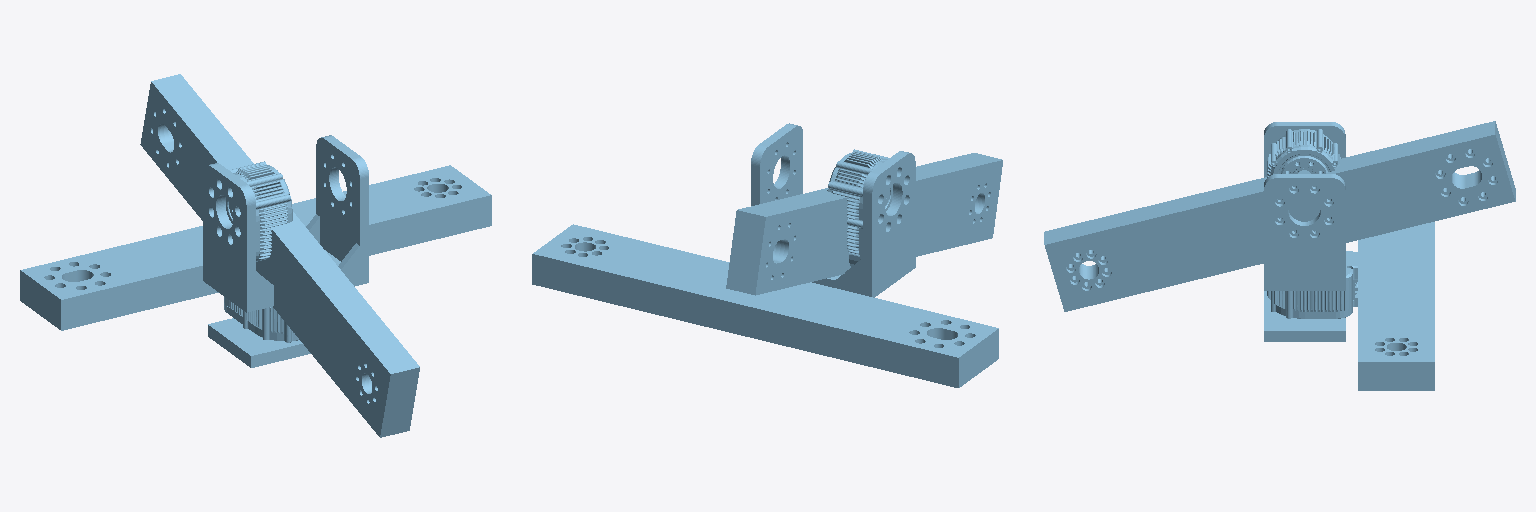
The robot description file, URDF, robot "134":
<?xml version="1.0" ?>
<!-- Generated using onshape-to-robot -->
<!-- Onshape https://cad.onshape.com/documents/b24f31efa04a014ae2302e9e/w/00cd8abebdb06481d40693f6/e/4cf0829e59723755e3bfcfee -->
<robot name="134">
  <!-- Link base_plate -->
  <link name="base_plate">
    <inertial>
      <origin xyz="0 0 0" rpy="0 0 0"/>
      <mass value="1e-09"/>
      <inertia ixx="1e-09" ixy="0" ixz="0" iyy="1e-09" iyz="0" izz="1e-09"/>
    </inertial>
    <!-- Part base_plate -->
    <visual>
      <origin xyz="-0 -0 0" rpy="0 -0 0"/>
      <geometry>
        <mesh filename="package://chad/meshes/base_plate.stl"/>
      </geometry>
      <material name="base_plate_material">
        <color rgba="0.615686 0.811765 0.929412 1"/>
      </material>
    </visual>
    <collision>
      <origin xyz="-0 -0 0" rpy="0 -0 0"/>
      <geometry>
        <mesh filename="package://chad/meshes/base_plate.stl"/>
      </geometry>
    </collision>
    <!-- Part x8 -->
    <visual>
      <origin xyz="0 0 0.0353" rpy="-1.5708 -0 1.5708"/>
      <geometry>
        <mesh filename="package://chad/meshes/x8.stl"/>
      </geometry>
      <material name="x8_material">
        <color rgba="0.615686 0.811765 0.929412 1"/>
      </material>
    </visual>
    <collision>
      <origin xyz="0 0 0.0353" rpy="-1.5708 -0 1.5708"/>
      <geometry>
        <mesh filename="package://chad/meshes/x8.stl"/>
      </geometry>
    </collision>
  </link>
  <!-- Link part_1 -->
  <link name="part_1">
    <inertial>
      <origin xyz="0 0 0" rpy="0 0 0"/>
      <mass value="1e-09"/>
      <inertia ixx="1e-09" ixy="0" ixz="0" iyy="1e-09" iyz="0" izz="1e-09"/>
    </inertial>
    <!-- Part part_1 -->
    <visual>
      <origin xyz="0 -0 -0.01" rpy="0 -0 0"/>
      <geometry>
        <mesh filename="package://chad/meshes/part_1.stl"/>
      </geometry>
      <material name="part_1_material">
        <color rgba="0.615686 0.811765 0.929412 1"/>
      </material>
    </visual>
    <collision>
      <origin xyz="0 -0 -0.01" rpy="0 -0 0"/>
      <geometry>
        <mesh filename="package://chad/meshes/part_1.stl"/>
      </geometry>
    </collision>
    <!-- Part x8_2 -->
    <visual>
      <origin xyz="-0.032 0 -0.086" rpy="1.5708 -1.5708 0"/>
      <geometry>
        <mesh filename="package://chad/meshes/x8.stl"/>
      </geometry>
      <material name="x8_2_material">
        <color rgba="0.615686 0.811765 0.929412 1"/>
      </material>
    </visual>
    <collision>
      <origin xyz="-0.032 0 -0.086" rpy="1.5708 -1.5708 0"/>
      <geometry>
        <mesh filename="package://chad/meshes/x8.stl"/>
      </geometry>
    </collision>
  </link>
  <!-- Link part_1_2 -->
  <link name="part_1_2">
    <inertial>
      <origin xyz="0 0 0" rpy="0 0 0"/>
      <mass value="1e-09"/>
      <inertia ixx="1e-09" ixy="0" ixz="0" iyy="1e-09" iyz="0" izz="1e-09"/>
    </inertial>
    <!-- Part part_1_2 -->
    <visual>
      <origin xyz="0.0453486 0.0239741 -0.0057" rpy="-1.5708 -0 -1.83541"/>
      <geometry>
        <mesh filename="package://chad/meshes/part_1__2.stl"/>
      </geometry>
      <material name="part_1_2_material">
        <color rgba="0.615686 0.811765 0.929412 1"/>
      </material>
    </visual>
    <collision>
      <origin xyz="0.0453486 0.0239741 -0.0057" rpy="-1.5708 -0 -1.83541"/>
      <geometry>
        <mesh filename="package://chad/meshes/part_1__2.stl"/>
      </geometry>
    </collision>
  </link>
  <!-- Link part_1_2b -->
  <link name="part_1_2b">
    <inertial>
      <origin xyz="0 0 0" rpy="0 0 0"/>
      <mass value="1e-09"/>
      <inertia ixx="1e-09" ixy="0" ixz="0" iyy="1e-09" iyz="0" izz="1e-09"/>
    </inertial>
    <!-- Part part_1_2b -->
    <visual>
      <origin xyz="0.09 0.03 -0.009" rpy="-1.5708 -0 -1.5708"/>
      <geometry>
        <mesh filename="package://chad/meshes/part_1__2.stl"/>
      </geometry>
      <material name="part_1_2_material">
        <color rgba="0.615686 0.811765 0.929412 1"/>
      </material>
    </visual>
    <collision>
      <origin xyz="0.09 0.03 -0.009" rpy="-1.5708 -0 -1.5708"/>
      <geometry>
        <mesh filename="package://chad/meshes/part_1__2.stl"/>
      </geometry>
    </collision>
  </link>
  <!-- Joint from part_1 to part_1_2 -->
  <joint name="shoulder" type="revolute">
    <origin xyz="-0.00995 -0 -0.086" rpy="-0 -1.5708 0"/>
    <parent link="part_1"/>
    <child link="part_1_2"/>
    <axis xyz="0 0 1"/>
    <limit effort="10" velocity="10" lower="-3.141592653589793" upper="3.141592653589793"/>
  </joint>
    <!-- Joint from part_1 to part_1_2 -->
  <joint name="shoulder_2" type="revolute">
    <origin xyz="-0.00995 -0 0" rpy="-0 0 -1.5708"/>
    <parent link="part_1"/>
    <child link="part_1_2b"/>
    <axis xyz="0 0 1"/>
    <limit effort="10" velocity="10" lower="-3.141592653589793" upper="3.141592653589793"/>
  </joint>
  <!-- Joint from base_plate to part_1 -->
  <joint name="base" type="revolute">
    <origin xyz="-0 0 0.05735" rpy="3.14159 -0 0"/>
    <parent link="base_plate"/>
    <child link="part_1"/>
    <axis xyz="0 0 1"/>
    <limit effort="10" velocity="10" lower="-3.141592653589793" upper="3.141592653589793"/>
  </joint>
  
</robot>

--- What the picture shows (computed from the rendered views, not written in the file) ---
Views: 3 orthographic renders of the robot side by side, from view 1: azimuth 30°, elevation 25°; view 2: azimuth 150°, elevation 25°; view 3: azimuth 270°, elevation 25°.
Model 134 with 4 links and 3 joints (3 revolute), rooted at base_plate, posed all joints at 0.
Visible links, largest first — view 1: part_1_2, part_1_2b, part_1, base_plate; view 2: part_1_2b, part_1_2, part_1; view 3: part_1_2, part_1, part_1_2b, base_plate.
Link boxes in pixels (box(x1,y1,x2,y2)): part_1_2: box(140, 74, 419, 437); part_1_2b: box(20, 165, 491, 330); part_1: box(203, 135, 368, 312); base_plate: box(208, 297, 310, 367); part_1_2b: box(532, 224, 998, 387); part_1_2: box(726, 153, 1002, 295); part_1: box(751, 123, 915, 297); part_1_2: box(1044, 121, 1515, 311); part_1: box(1264, 122, 1345, 290); part_1_2b: box(1358, 222, 1434, 390); base_plate: box(1264, 251, 1357, 341).
Size in the robot's own frame: 0.456 by 0.4597 by 0.1938 metres.
Meshes: 4 distinct files referenced, 6 mesh visuals loaded (4 binary STL).
